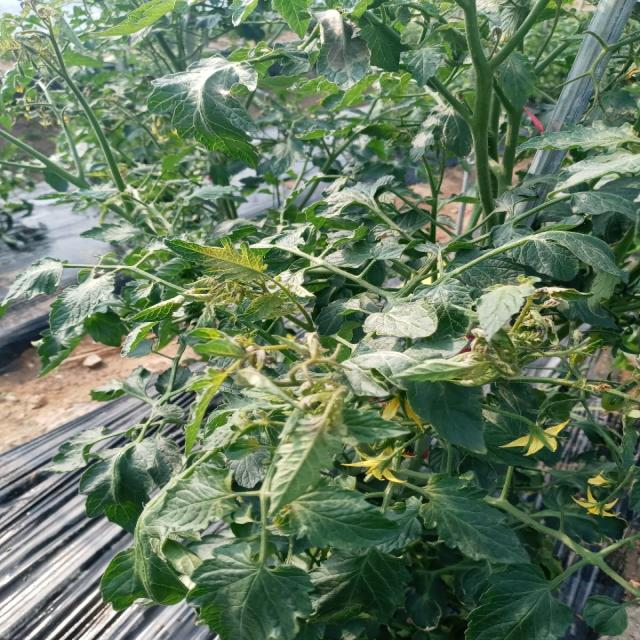Healthy Leaf: (150, 55, 260, 169), (189, 543, 315, 640), (422, 473, 531, 565), (466, 565, 574, 640), (102, 548, 190, 613), (166, 240, 268, 283), (318, 11, 371, 91), (515, 123, 640, 156), (413, 280, 477, 341), (559, 150, 640, 191), (1, 258, 66, 306), (329, 226, 403, 268), (323, 179, 398, 217), (365, 302, 439, 339), (403, 46, 447, 89), (443, 113, 477, 161), (408, 594, 445, 631), (237, 296, 282, 324)
